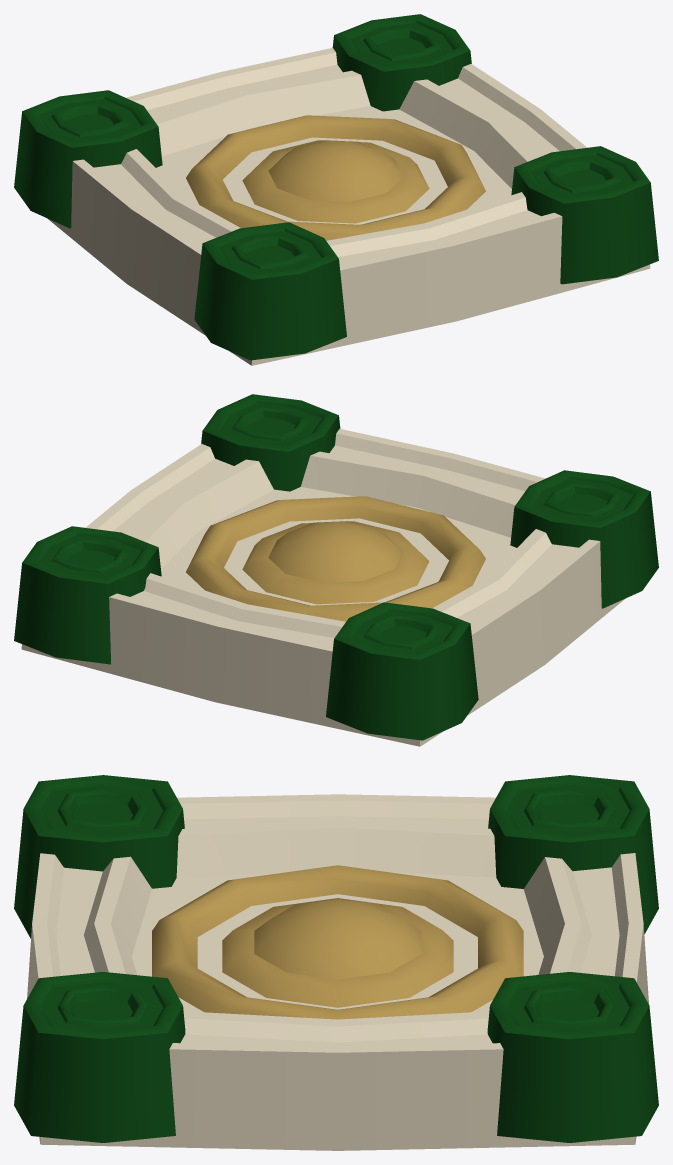
Rendered from BallroomCeilingDecoUV2.fbx.
The picture shows the model from 3 angles, top to bottom: view 1: azimuth 30°, elevation 25°; view 2: azimuth 150°, elevation 25°; view 3: azimuth 270°, elevation 25°; orthographic projection. The views are drawn at different scales.
Parts seen in each view (by area): view 1: polySurface6; view 2: polySurface6; view 3: polySurface6.
Part boxes in pixels (box(x1,y1,x2,y2)): polySurface6: box(14, 14, 658, 365); polySurface6: box(14, 394, 658, 746); polySurface6: box(14, 775, 658, 1150).
Bounding box in the file's own units: 204 × 40.48 × 204.
